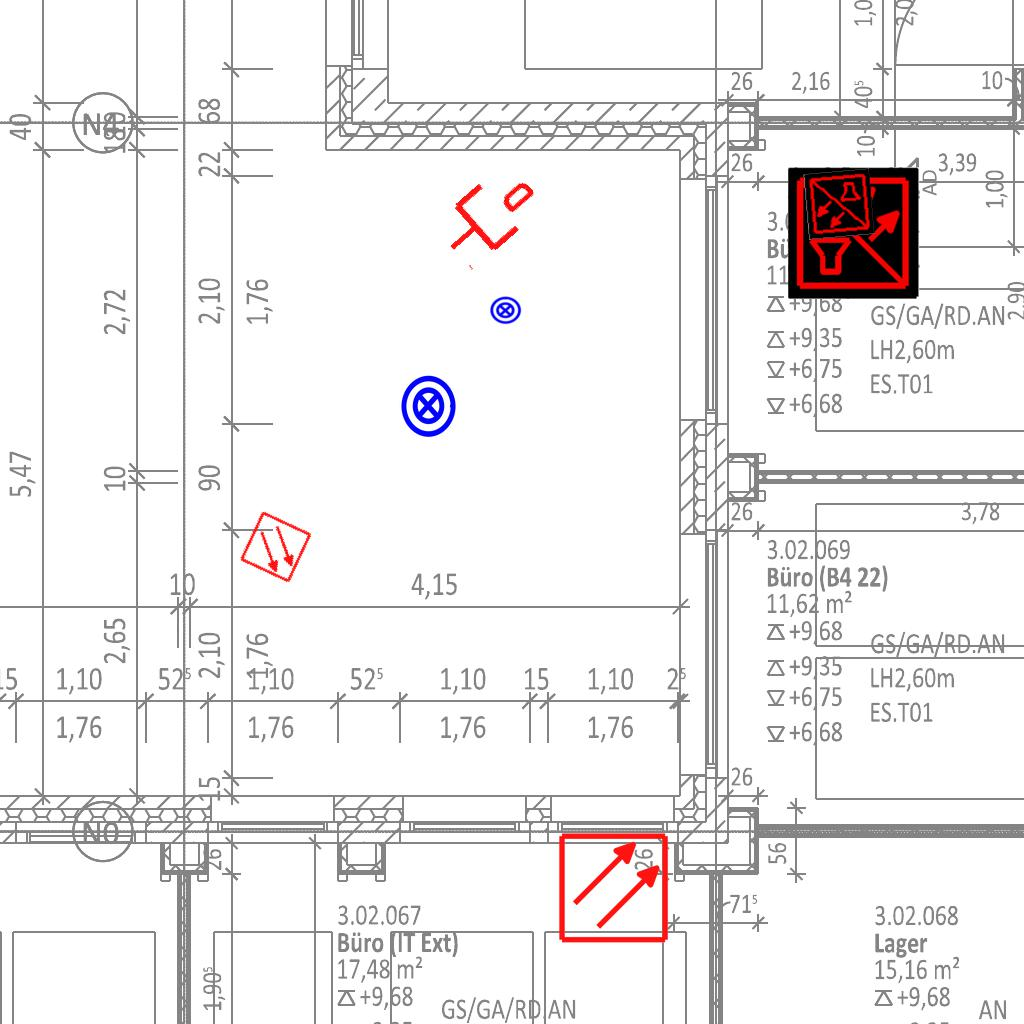Datenanschluss_einfach: (428, 157, 549, 275)
OKW_Multisensormelder_(Kombination_optischer_Rauch-Kahlenmonoxid_Waerme-Melder): (788, 167, 920, 299), (803, 168, 875, 240)
RMO_Rauchmelder_optischer: (557, 831, 670, 944), (238, 509, 314, 585)
Taster_beleuchtet: (395, 373, 461, 439), (489, 294, 522, 327)
